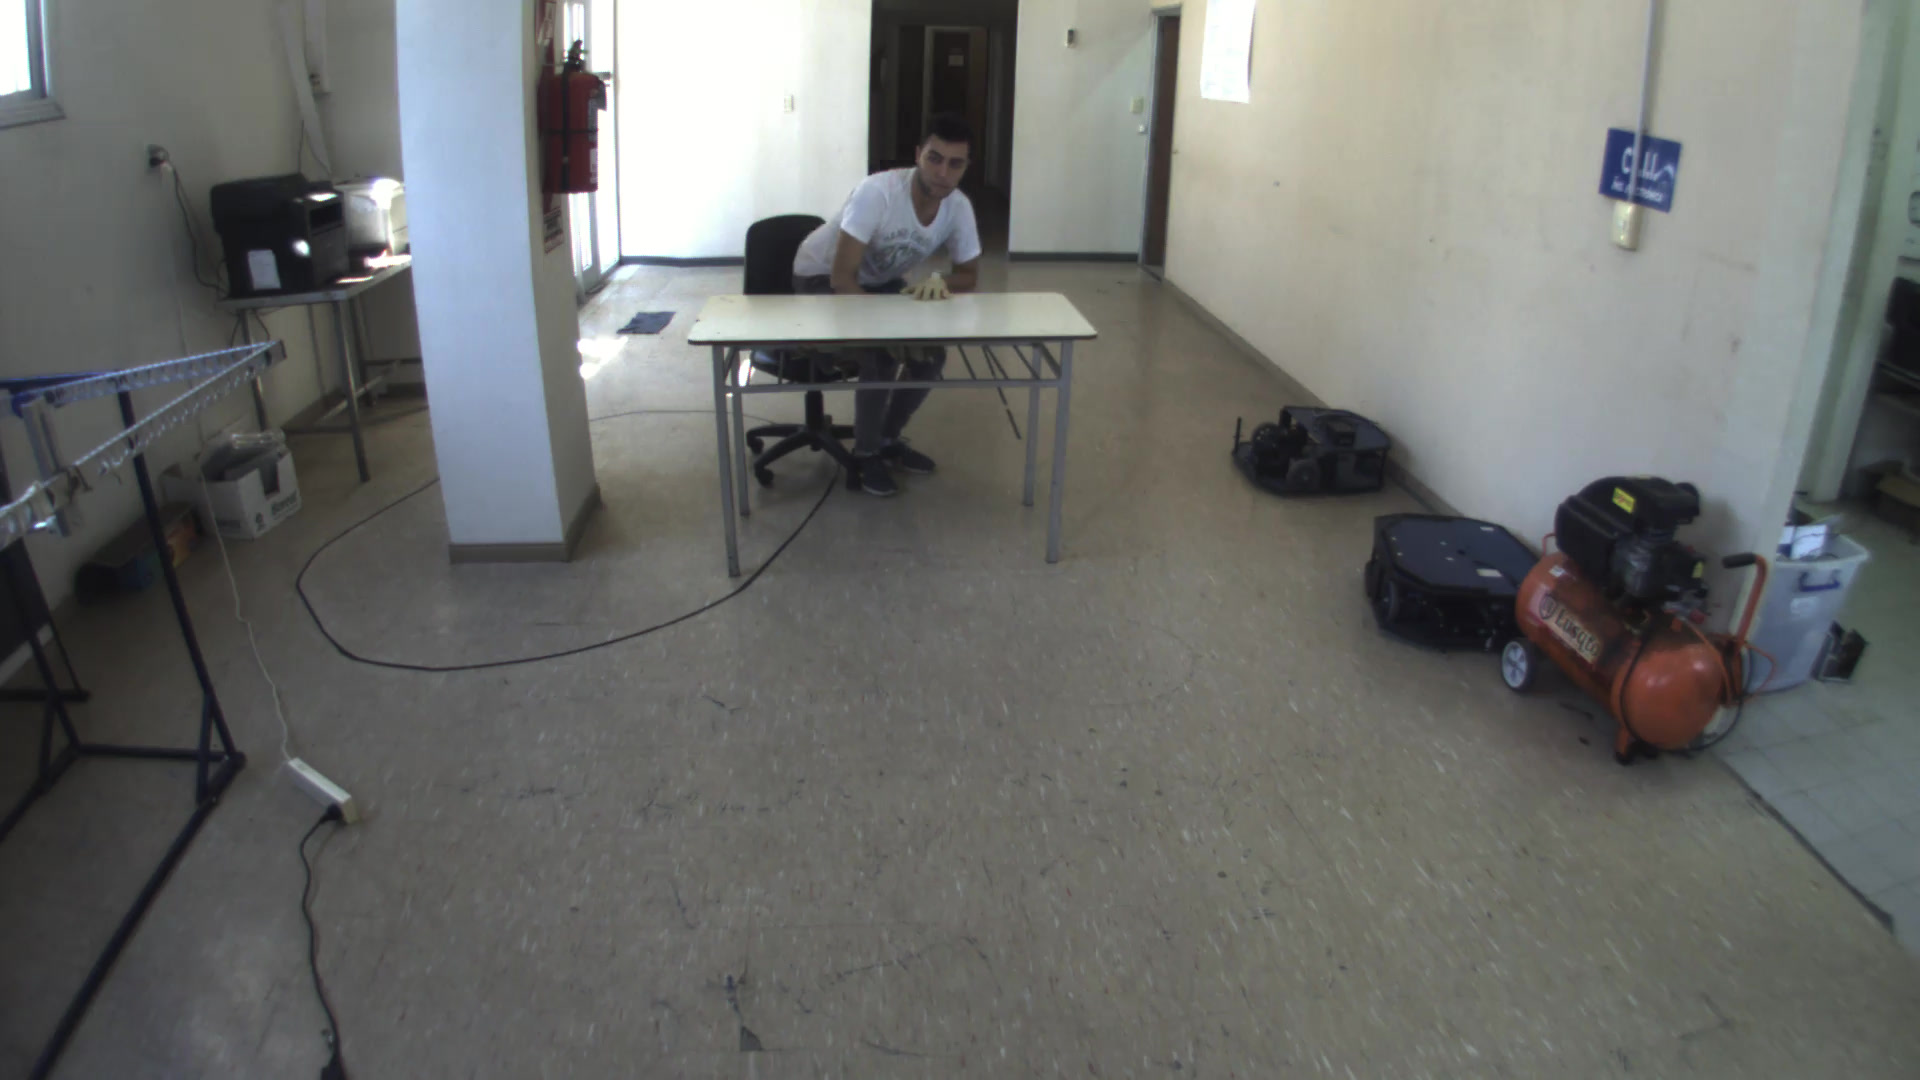hand: (897, 255, 959, 309)
